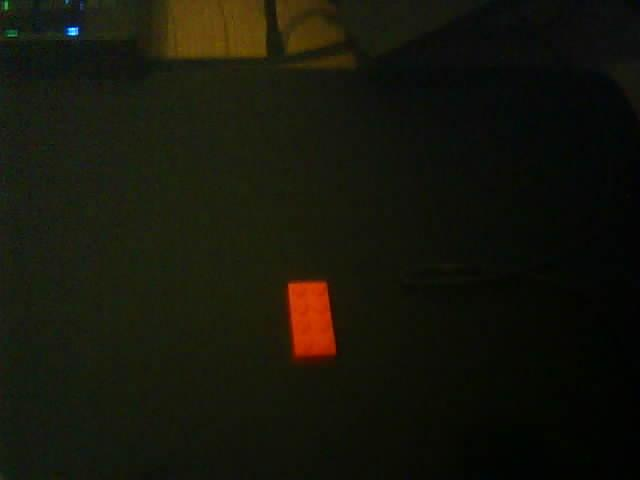lego: (284, 280, 337, 363)
